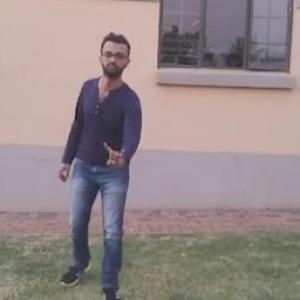takeoff-hand: (99, 134, 130, 170)
